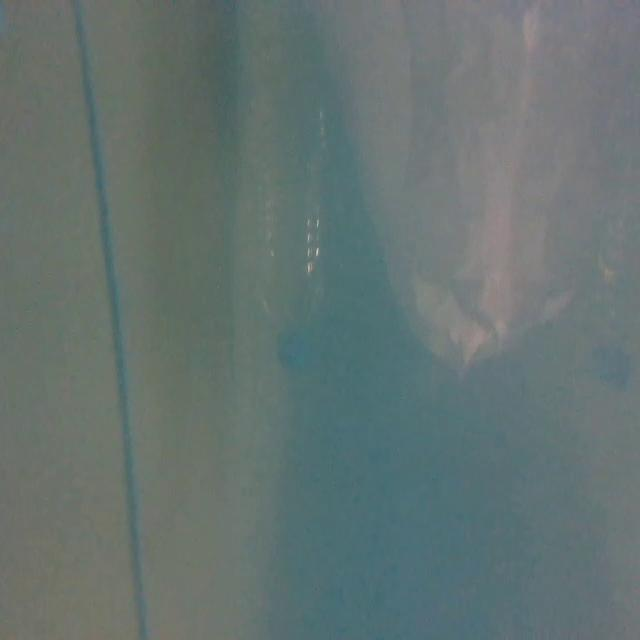plastic bags: (337, 0, 640, 373)
plastic bottle: (245, 90, 328, 367)
